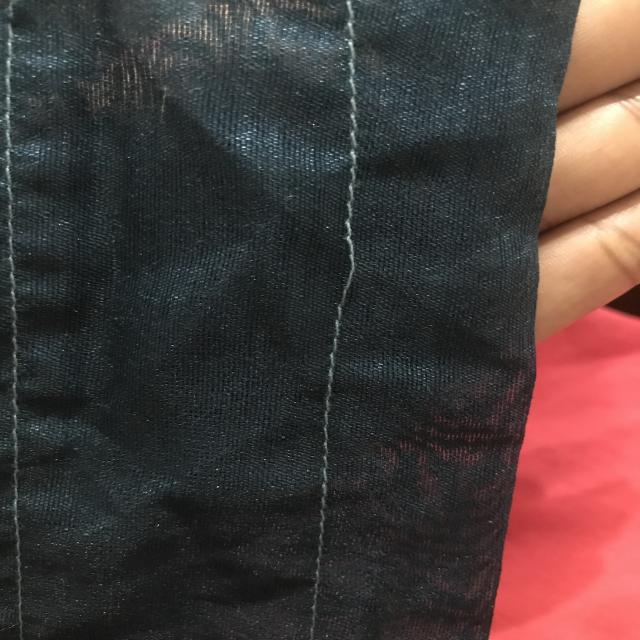good: (329, 84, 378, 177), (313, 390, 340, 501)
skip: (330, 221, 370, 336)
